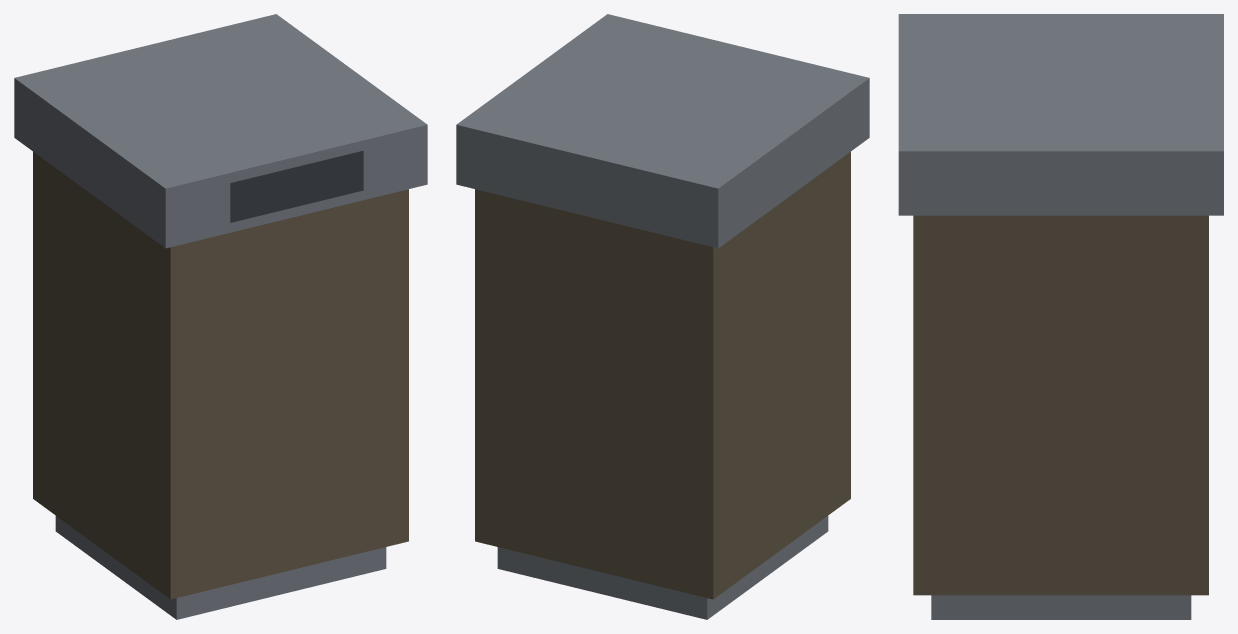
The model's file is site_bin.fbx.
3 views of the same model, side by side, from view 1: azimuth 30°, elevation 25°; view 2: azimuth 150°, elevation 25°; view 3: azimuth 270°, elevation 25° (orthographic). The views are drawn at different scales.
Parts seen in each view (by area): view 1: a3004/0/site_bin; view 2: a3004/0/site_bin; view 3: a3004/0/site_bin.
Boxes of the visible parts, x1=… form: a3004/0/site_bin: x1=14, y1=14, x2=427, y2=619; a3004/0/site_bin: x1=456, y1=14, x2=869, y2=619; a3004/0/site_bin: x1=898, y1=14, x2=1223, y2=619.
Bounding box in the file's own units: 0.55 × 0.9 × 0.551.
